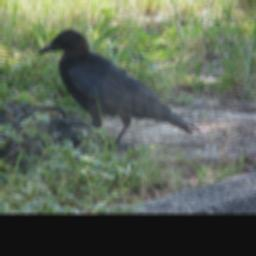Crow: (37, 28, 202, 150)
